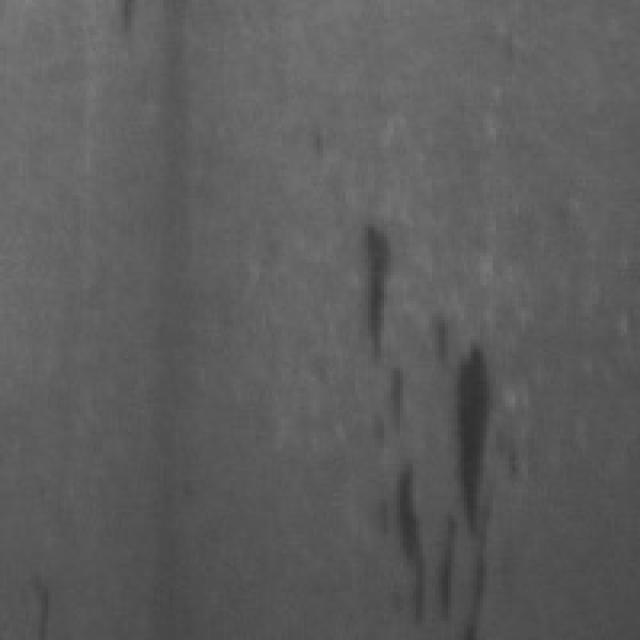inclusion: (384, 307, 512, 634), (108, 0, 202, 298), (348, 211, 409, 429)
